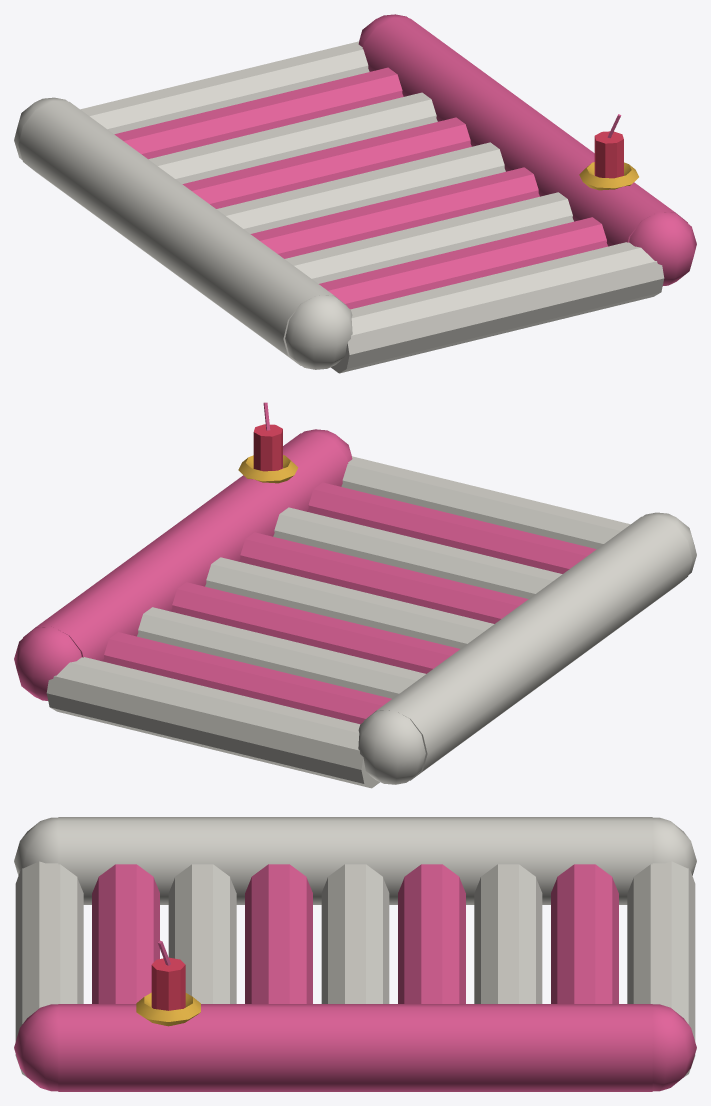
Rendered from bridge.glb.
3 views of the same model, one above another, from view 1: azimuth 30°, elevation 25°; view 2: azimuth 150°, elevation 25°; view 3: azimuth 270°, elevation 25° (orthographic). The views are drawn at different scales.
Parts seen in each view (by area): view 1: body; view 2: body; view 3: body.
Part boxes in pixels (x1,y1,x2,y2): body: [14, 14, 696, 373]; body: [14, 402, 696, 788]; body: [14, 817, 696, 1091].
Bounding box in the file's own units: 3.12 × 1 × 4.02.
